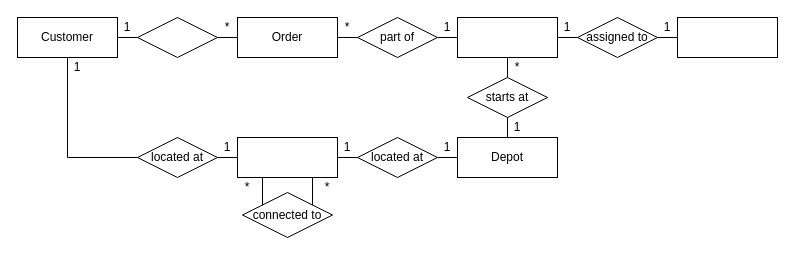
Image size: 795x255. Some labels were removed from this diagram. Here are the shapes that lost their labels. From the top down, the centre of each, then its label:
At (177,37): "places".
At (507,37): "Tour".
At (727,37): "Truck".
At (287,157): "Location".
